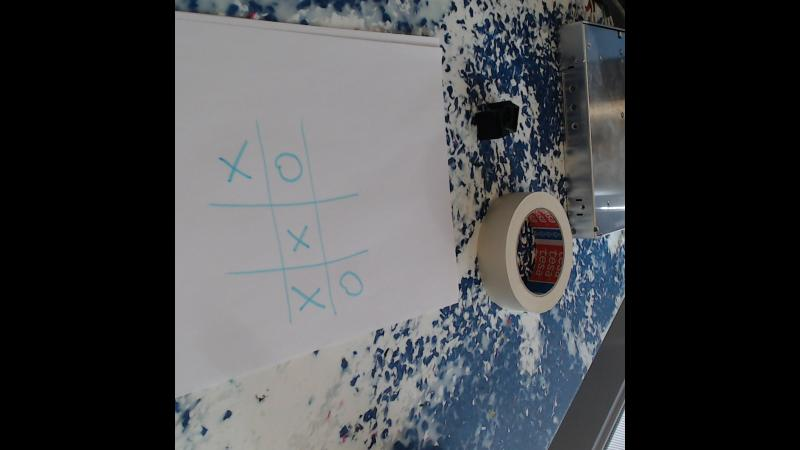O: (274, 144, 304, 188), (334, 268, 370, 302)
X: (218, 139, 253, 190), (294, 278, 326, 317), (287, 218, 313, 253)
grid: (196, 121, 374, 325)
